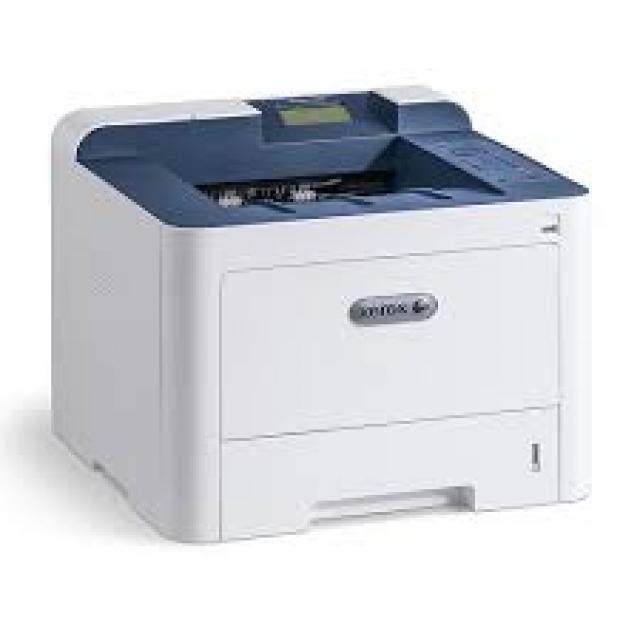printer: (38, 77, 603, 557)
